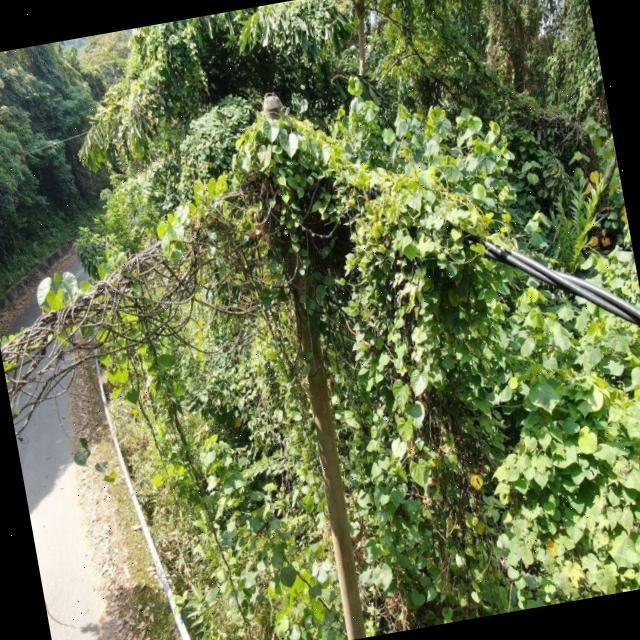critical vegetation: (0, 56, 561, 390)
